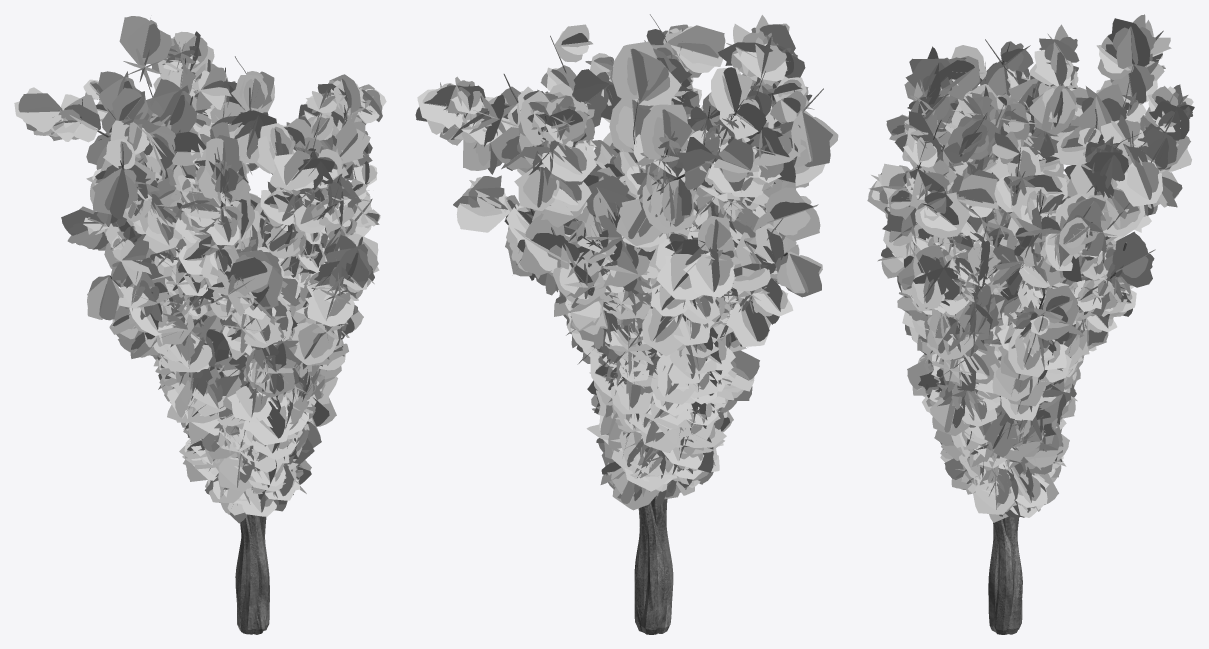
File: tree.fbx
The picture shows the model from 3 angles, left to right: view 1: azimuth 30°, elevation 25°; view 2: azimuth 150°, elevation 25°; view 3: azimuth 270°, elevation 25°; orthographic projection. The views are drawn at different scales.
Parts seen in each view (by area): view 1: Cube.016, Cube.016|grass|Dupli|1253, Cube.016|grass|Dupli|120, Cube.016|grass|Dupli|1276, Cube.016|grass|Dupli|1272, Cube.016|grass|Dupli|578, Cube.016|grass|Dupli|672, Cube.016|grass|Dupli|656, Cube.016|grass|Dupli|664, Cube.016|grass|Dupli|23, Cube.016|grass|Dupli|456, Cube.016|grass|Dupli|1270 (+64 smaller); view 2: Cube.016, Cube.016|grass|Dupli|1253, Cube.016|grass|Dupli|211, Cube.016|grass|Dupli|578, Cube.016|grass|Dupli|1125, Cube.016|grass|Dupli|1260, Cube.016|grass|Dupli|1378, Cube.016|grass|Dupli|120, Cube.016|grass|Dupli|23, Cube.016|grass|Dupli|805, Cube.016|grass|Dupli|105, Cube.016|grass|Dupli|107 (+60 smaller); view 3: Cube.016, Cube.016|grass|Dupli|1253, Cube.016|grass|Dupli|1125, Cube.016|grass|Dupli|1276, Cube.016|grass|Dupli|993, Cube.016|grass|Dupli|590, Cube.016|grass|Dupli|351, Cube.016|grass|Dupli|349, Cube.016|grass|Dupli|576, Cube.016|grass|Dupli|987, Cube.016|grass|Dupli|696, Cube.016|grass|Dupli|671 (+78 smaller).
Part boxes in pixels (x1,y1,x2,y2): Cube.016: [59, 56, 369, 634]; Cube.016|grass|Dupli|1253: [119, 16, 171, 64]; Cube.016|grass|Dupli|120: [92, 165, 138, 219]; Cube.016|grass|Dupli|1276: [150, 78, 196, 133]; Cube.016|grass|Dupli|1272: [14, 87, 62, 132]; Cube.016|grass|Dupli|578: [270, 150, 318, 195]; Cube.016|grass|Dupli|672: [325, 235, 371, 283]; Cube.016|grass|Dupli|656: [292, 322, 338, 365]; Cube.016|grass|Dupli|664: [305, 286, 354, 329]; Cube.016|grass|Dupli|23: [87, 275, 123, 320]; Cube.016|grass|Dupli|456: [228, 254, 272, 296]; Cube.016|grass|Dupli|1270: [59, 94, 100, 142]; Cube.016: [469, 14, 823, 634]; Cube.016|grass|Dupli|1253: [610, 41, 663, 100]; Cube.016|grass|Dupli|211: [766, 187, 820, 241]; Cube.016|grass|Dupli|578: [667, 25, 725, 77]; Cube.016|grass|Dupli|1125: [514, 213, 568, 275]; Cube.016|grass|Dupli|1260: [640, 104, 694, 159]; Cube.016|grass|Dupli|1378: [683, 249, 734, 297]; Cube.016|grass|Dupli|120: [791, 110, 838, 166]; Cube.016|grass|Dupli|23: [775, 251, 822, 297]; Cube.016|grass|Dupli|805: [572, 69, 621, 120]; Cube.016|grass|Dupli|105: [708, 67, 752, 115]; Cube.016|grass|Dupli|107: [752, 127, 805, 182]; Cube.016: [918, 39, 1140, 634]; Cube.016|grass|Dupli|1253: [1107, 14, 1155, 68]; Cube.016|grass|Dupli|1125: [1112, 231, 1155, 287]; Cube.016|grass|Dupli|1276: [1079, 84, 1127, 134]; Cube.016|grass|Dupli|993: [1116, 159, 1162, 206]; Cube.016|grass|Dupli|590: [915, 192, 970, 238]; Cube.016|grass|Dupli|351: [938, 56, 982, 100]; Cube.016|grass|Dupli|349: [905, 46, 951, 104]; Cube.016|grass|Dupli|576: [948, 174, 998, 218]; Cube.016|grass|Dupli|987: [1064, 158, 1114, 198]; Cube.016|grass|Dupli|696: [967, 473, 1014, 514]; Cube.016|grass|Dupli|671: [913, 254, 959, 299].
Bounding box in the file's own units: 435 × 726 × 365.
